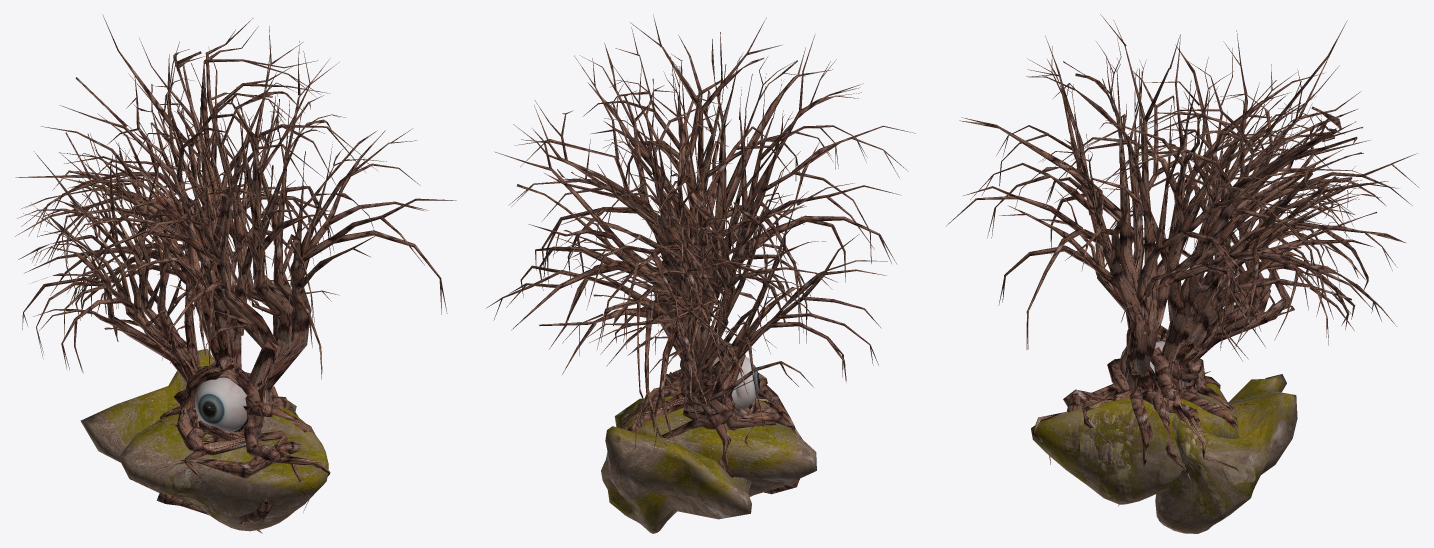
The model's file is arbreoeuil2.fbx.
3 views of the same model, side by side, from view 1: azimuth 30°, elevation 25°; view 2: azimuth 150°, elevation 25°; view 3: azimuth 270°, elevation 25° (orthographic). The views are drawn at different scales.
Parts seen in each view (by area): view 1: tree, Sol, Racines, eEUIL.001; view 2: tree, Sol, Racines, eEUIL.001; view 3: tree, Sol, Racines.
Boxes of the visible parts, left/top/right/bottom form: tree: left=15, top=14, right=456, bottom=431; Sol: left=80, top=348, right=328, bottom=531; Racines: left=144, top=353, right=330, bottom=533; eEUIL.001: left=195, top=377, right=247, bottom=431; tree: left=486, top=14, right=915, bottom=456; Sol: left=601, top=396, right=816, bottom=533; Racines: left=622, top=341, right=801, bottom=494; eEUIL.001: left=712, top=356, right=759, bottom=411; tree: left=946, top=14, right=1418, bottom=393; Sol: left=1031, top=374, right=1297, bottom=533; Racines: left=1032, top=325, right=1239, bottom=506.
Size of the model in its own units: 541 by 749 by 638.
